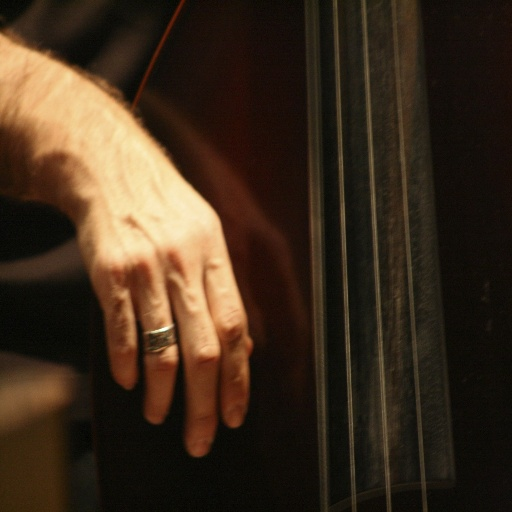hand: (77, 116, 256, 457)
